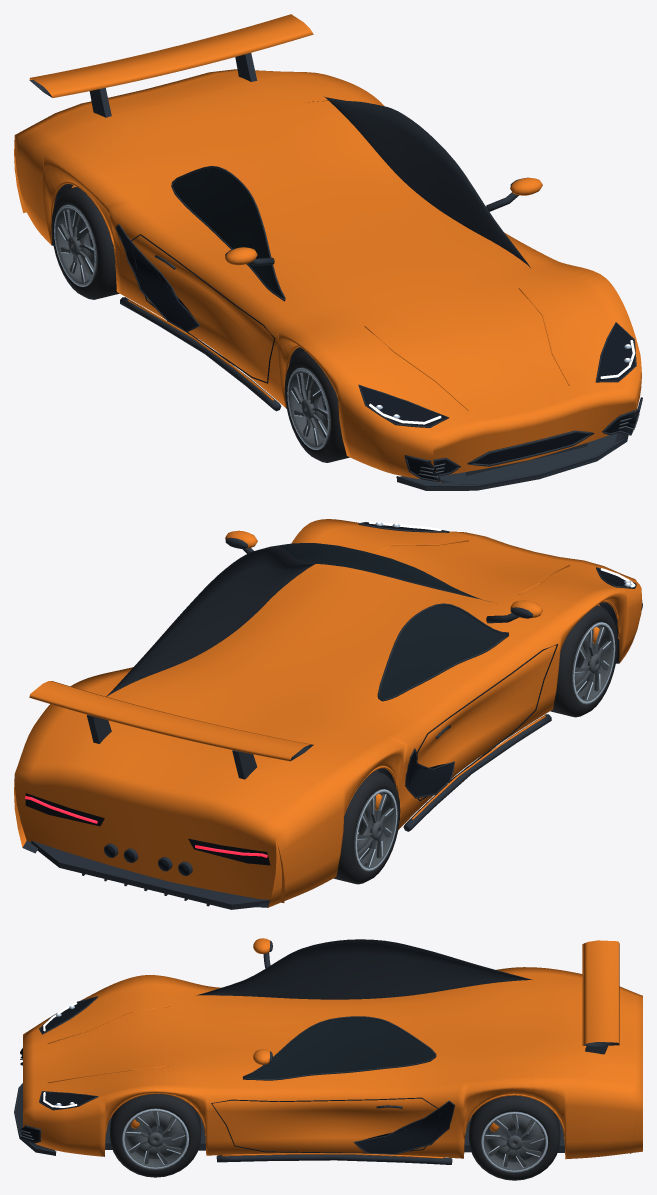
The model's file is McLaren.glb.
3 renders of one model, top to bottom at view 1: azimuth 30°, elevation 25°; view 2: azimuth 150°, elevation 25°; view 3: azimuth 270°, elevation 25°, orthographic. The views are drawn at different scales.
Visible parts, largest first — view 1: McLaren_Body, Wheel_Rear_L, Wheel_Front_L; view 2: McLaren_Body, Wheel_Rear_L, Wheel_Front_L; view 3: McLaren_Body, Wheel_Rear_R, Wheel_Front_R.
Part boxes in pixels (box(x1,y1,x2,y2)): McLaren_Body: box(14, 14, 642, 490); Wheel_Rear_L: box(51, 187, 119, 299); Wheel_Front_L: box(284, 351, 349, 462); McLaren_Body: box(14, 519, 642, 909); Wheel_Rear_L: box(333, 771, 400, 884); Wheel_Front_L: box(550, 605, 617, 717); McLaren_Body: box(14, 938, 642, 1164); Wheel_Rear_R: box(469, 1095, 560, 1180); Wheel_Front_R: box(110, 1094, 201, 1177).
Size of the model in its own units: 2.13 by 1.34 by 4.61.
